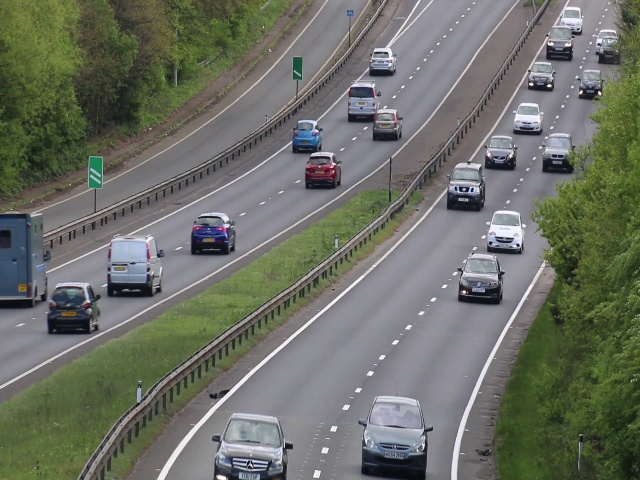car: (360, 396, 429, 476), (215, 414, 288, 480), (2, 209, 49, 305), (105, 234, 165, 295), (48, 283, 101, 337), (191, 209, 236, 254), (459, 254, 501, 302), (445, 161, 485, 209), (487, 213, 525, 250), (346, 78, 376, 122), (542, 131, 570, 172), (306, 152, 340, 185), (544, 26, 574, 60), (487, 132, 513, 170), (526, 60, 557, 91), (513, 105, 544, 135), (576, 68, 603, 102), (373, 107, 403, 137), (292, 122, 321, 151), (369, 45, 396, 75), (598, 32, 617, 60), (568, 6, 582, 32)
